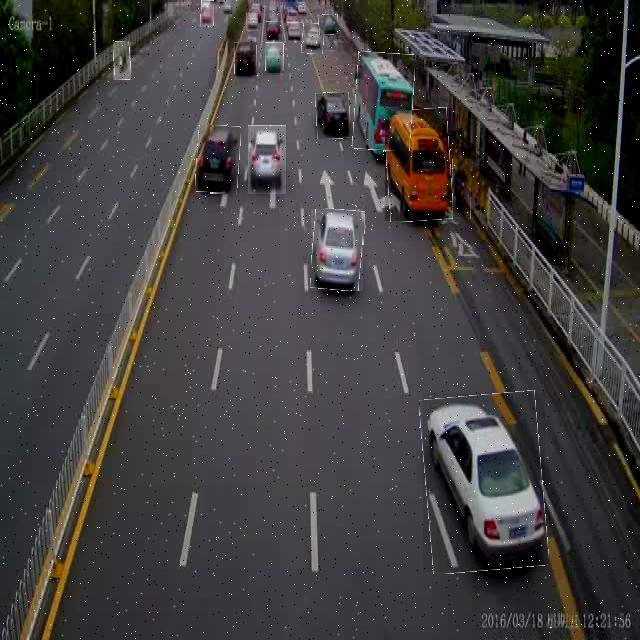Bus: (385, 108, 452, 221), (353, 52, 414, 151)
Car: (423, 393, 545, 572), (312, 209, 364, 291), (196, 125, 240, 193), (248, 125, 286, 194), (315, 93, 350, 139), (235, 42, 257, 76), (302, 23, 323, 54), (266, 42, 284, 71), (319, 14, 338, 35), (201, 0, 214, 27), (266, 21, 282, 40), (287, 22, 303, 41), (246, 13, 258, 31)
Motorcycle: (452, 159, 471, 219), (113, 42, 131, 80)
